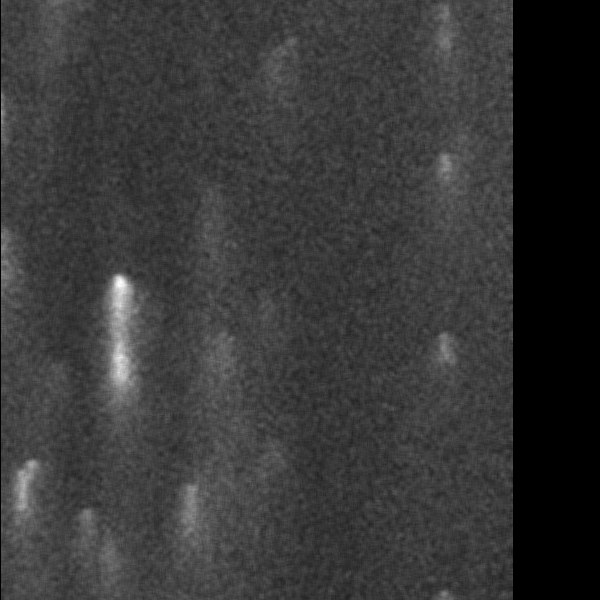spark: (105, 268, 139, 521), (171, 476, 206, 589), (199, 324, 238, 412), (5, 459, 33, 580), (426, 1, 463, 78), (83, 524, 121, 595), (74, 503, 97, 594), (430, 145, 463, 206), (430, 327, 455, 399), (432, 585, 452, 600)
